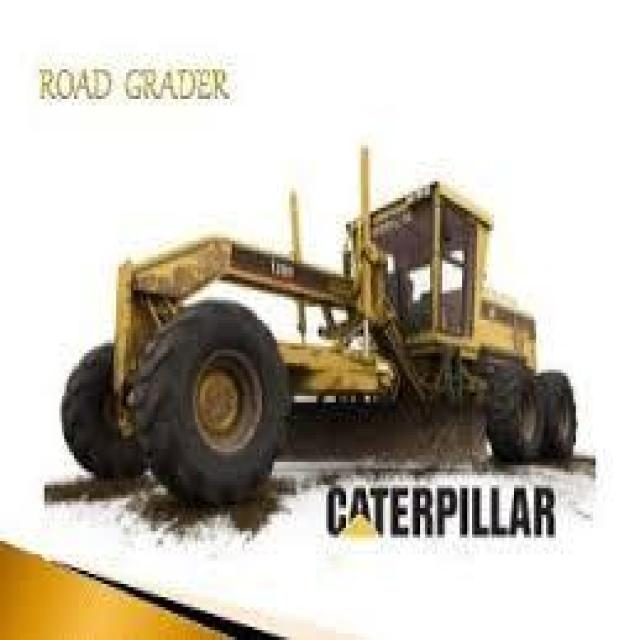buldozerpayloadergrader: (62, 162, 583, 504)
